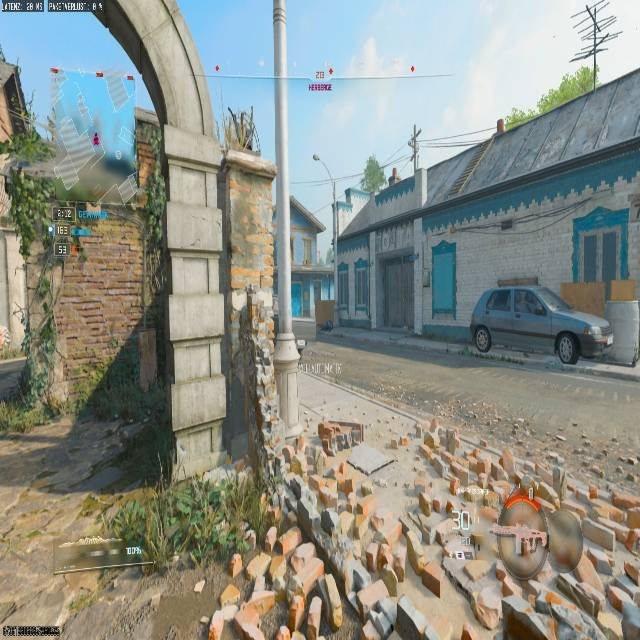head: (491, 500, 550, 577)
player: (457, 499, 639, 638)
